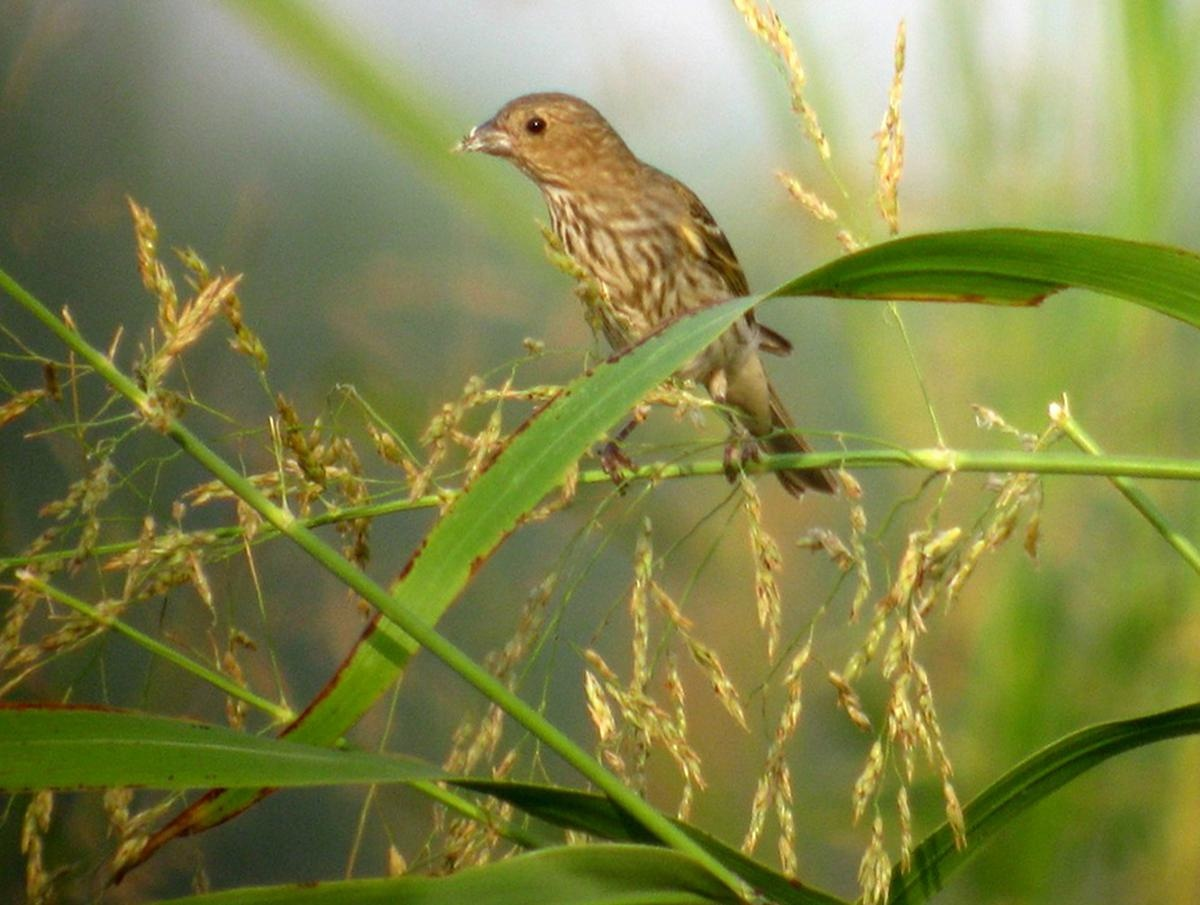rosefinch: (444, 93, 785, 476)
